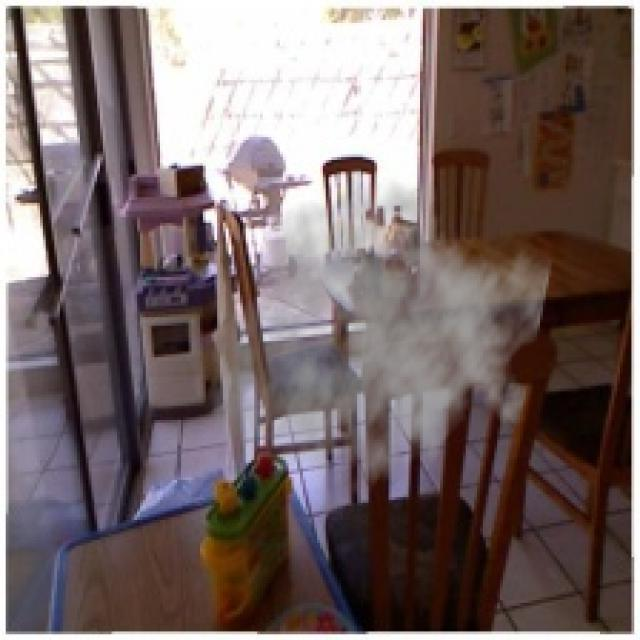Smoke: (206, 163, 554, 520)
